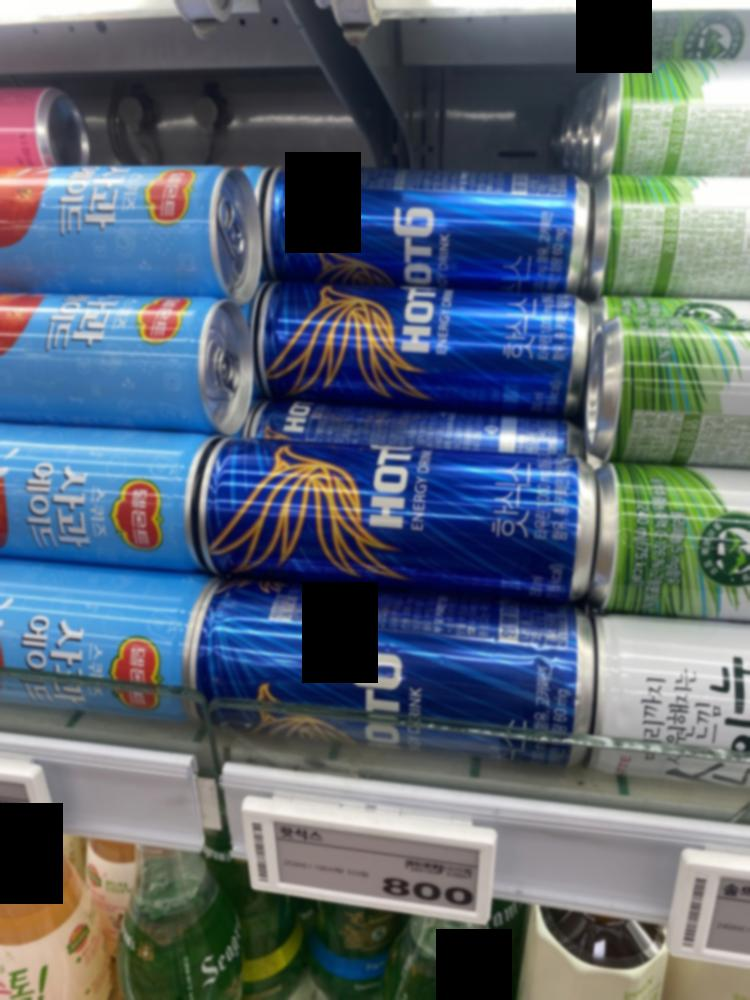hotsix_org: (211, 408, 604, 580)
